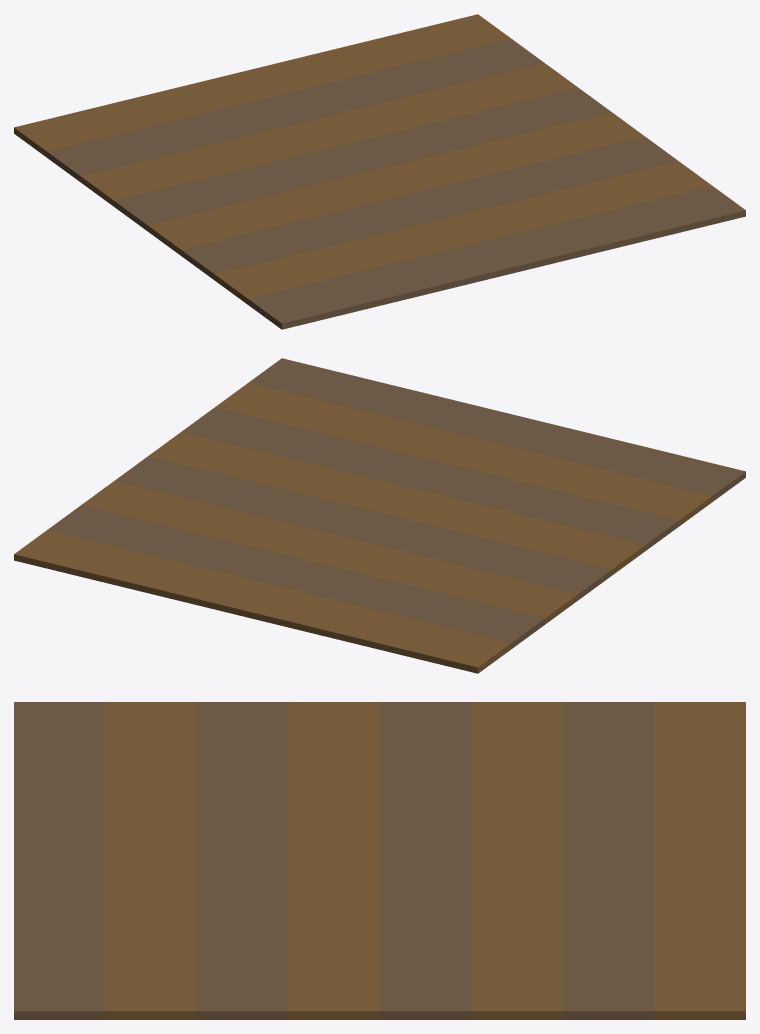
File: WoodBridgeTest.fbx
3 views of the same model, one above another, from view 1: azimuth 30°, elevation 25°; view 2: azimuth 150°, elevation 25°; view 3: azimuth 270°, elevation 25° (orthographic). The views are drawn at different scales.
Parts seen in each view (by area): view 1: WoodTest; view 2: WoodTest; view 3: WoodTest.
Part boxes in pixels (<box>): WoodTest: <box>14,14,745,329</box>; WoodTest: <box>14,358,745,673</box>; WoodTest: <box>14,702,745,1019</box>.
Bounding box in the file's own units: 8 × 0.1029 × 8.
